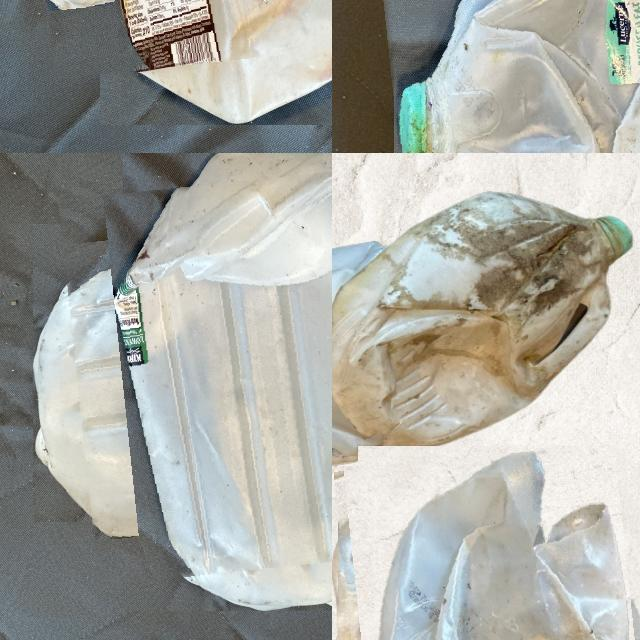milk-jug: (67, 169, 332, 576), (332, 198, 638, 444), (340, 450, 640, 640), (384, 0, 640, 153), (21, 0, 332, 69), (332, 241, 402, 485)
